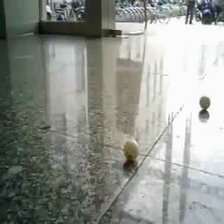w: (122, 139, 142, 161), (199, 95, 211, 109)
